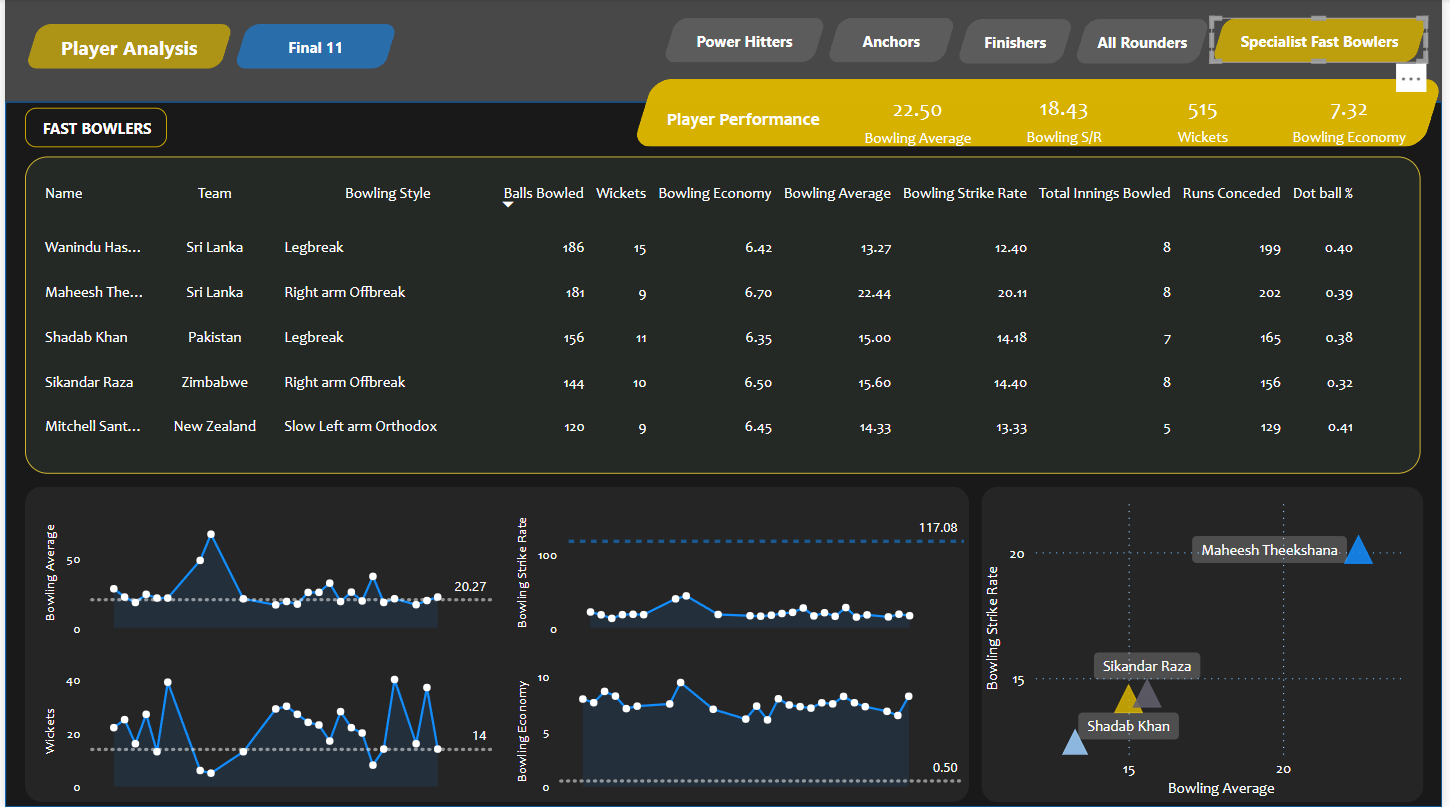

Layout of this report page (visuals, bound fields, positions):
{"tool":"powerbi","page":{"name":"Spin Bowlers","canvas":[1280,720],"ordinal":6},"visuals":[{"type":"shape","box":[0,91.7,1279.6,628.3],"z":0},{"type":"shape","box":[558.5,71.4,721.8,60.4],"z":1000},{"type":"card","fields":{"Values":["Key Measure.Bowling Average"]},"box":[747.7,73.6,130.3,66.3],"z":2000},{"type":"card","fields":{"Values":["Key Measure.Bowling Strike Rate"]},"box":[878.2,71.4,130.4,68.6],"z":3000},{"type":"card","fields":{"Values":["Key Measure.Wickets"]},"box":[1001.7,71.4,130.4,68.6],"z":4000},{"type":"card","fields":{"Values":["Key Measure.Bowling Economy"]},"box":[1132.1,71.4,130.4,68.6],"z":5000},{"type":"textbox","box":[584.6,91.9,163.3,39.8],"z":6000},{"type":"textbox","box":[18.1,96.5,126.6,35],"z":7000},{"type":"shape","box":[868.6,433.6,393.8,281.3],"z":8000},{"type":"shape","box":[18.1,434.2,840.6,281],"z":9000},{"type":"areaChart","fields":{"Category":["Match_summary.matchDate.Variation.Date Hierarchy.Day"],"Y":["Key Measure.Bowling Average"]},"box":[30.2,447.4,408.8,126.6],"z":10000},{"type":"areaChart","fields":{"Category":["Match_summary.matchDate.Variation.Date Hierarchy.Day"],"Y":["Key Measure.Bowling Strike Rate"]},"box":[449.8,447.4,408.8,126.6],"z":11000},{"type":"areaChart","fields":{"Category":["Match_summary.matchDate.Variation.Date Hierarchy.Day"],"Y":["Key Measure.Wickets"]},"box":[30.2,588.5,408.8,126.6],"z":12000},{"type":"areaChart","fields":{"Y":["Key Measure.Bowling Economy"],"Category":["Match_summary.matchDate.Variation.Date Hierarchy.Day"]},"box":[449.8,588.5,408.8,126.6],"z":13000},{"type":"actionButton","box":[584.9,16.9,145.9,39.8],"z":14000},{"type":"actionButton","box":[730.9,16.9,115.8,39.8],"z":15000},{"type":"actionButton","box":[846.6,18.1,104.9,39.8],"z":16000},{"type":"actionButton","box":[951.6,18.1,121.8,39.8],"z":17000},{"type":"actionButton","box":[1073.4,16.9,193,39.8],"z":18000},{"type":"actionButton","box":[203.8,21.7,145.9,39.8],"z":19000},{"type":"actionButton","box":[18.1,21.7,185.7,39.8],"z":20000},{"type":"tableEx","fields":{"Values":["Players_Summary.name","Players_Summary.team","Players_Summary.bowlingStyle","Key Measure.Balls Bowled","Key Measure.Wickets","Key Measure.Bowling Economy","Key Measure.Bowling Average","Key Measure.Bowling Strike Rate","Key Measure.Total Innings Bowled","Key Measure.Runs Conceded","Key Measure.Dot ball %"]},"box":[18.1,139.9,1242.2,282.2],"z":21000},{"type":"scatterChart","fields":{"Series":["Players_Summary.name"],"Category":["Players_Summary.name"],"X":["Key Measure.Bowling Average"],"Y":["Key Measure.Bowling Strike Rate"]},"box":[868.3,434.2,392,281],"z":22000}]}

Visuals, with their boxes in screenshot pixels (x1, y1, x2, y2), scaled from the page's 1280x720 canvas onto the 1450x807 screenshot:
shape: 0/103/1449/806
shape: 633/80/1449/148
card - Key Measure.Bowling Average: 847/82/995/157
card - Key Measure.Bowling Strike Rate: 995/80/1143/157
card - Key Measure.Wickets: 1135/80/1282/157
card - Key Measure.Bowling Economy: 1282/80/1430/157
textbox: 662/103/847/148
textbox: 21/108/164/147
shape: 984/486/1430/801
shape: 21/487/973/802
areaChart - Match_summary.matchDate.Variation.Date Hierarchy.Day x Key Measure.Bowling Average: 34/501/497/643
areaChart - Match_summary.matchDate.Variation.Date Hierarchy.Day x Key Measure.Bowling Strike Rate: 510/501/973/643
areaChart - Match_summary.matchDate.Variation.Date Hierarchy.Day x Key Measure.Wickets: 34/660/497/802
areaChart - Key Measure.Bowling Economy x Match_summary.matchDate.Variation.Date Hierarchy.Day: 510/660/973/802
actionButton: 663/19/828/64
actionButton: 828/19/959/64
actionButton: 959/20/1078/65
actionButton: 1078/20/1216/65
actionButton: 1216/19/1435/64
actionButton: 231/24/396/69
actionButton: 21/24/231/69
tableEx - Players_Summary.name x Players_Summary.team: 21/157/1428/473
scatterChart - Players_Summary.name x Players_Summary.name: 984/487/1428/802
